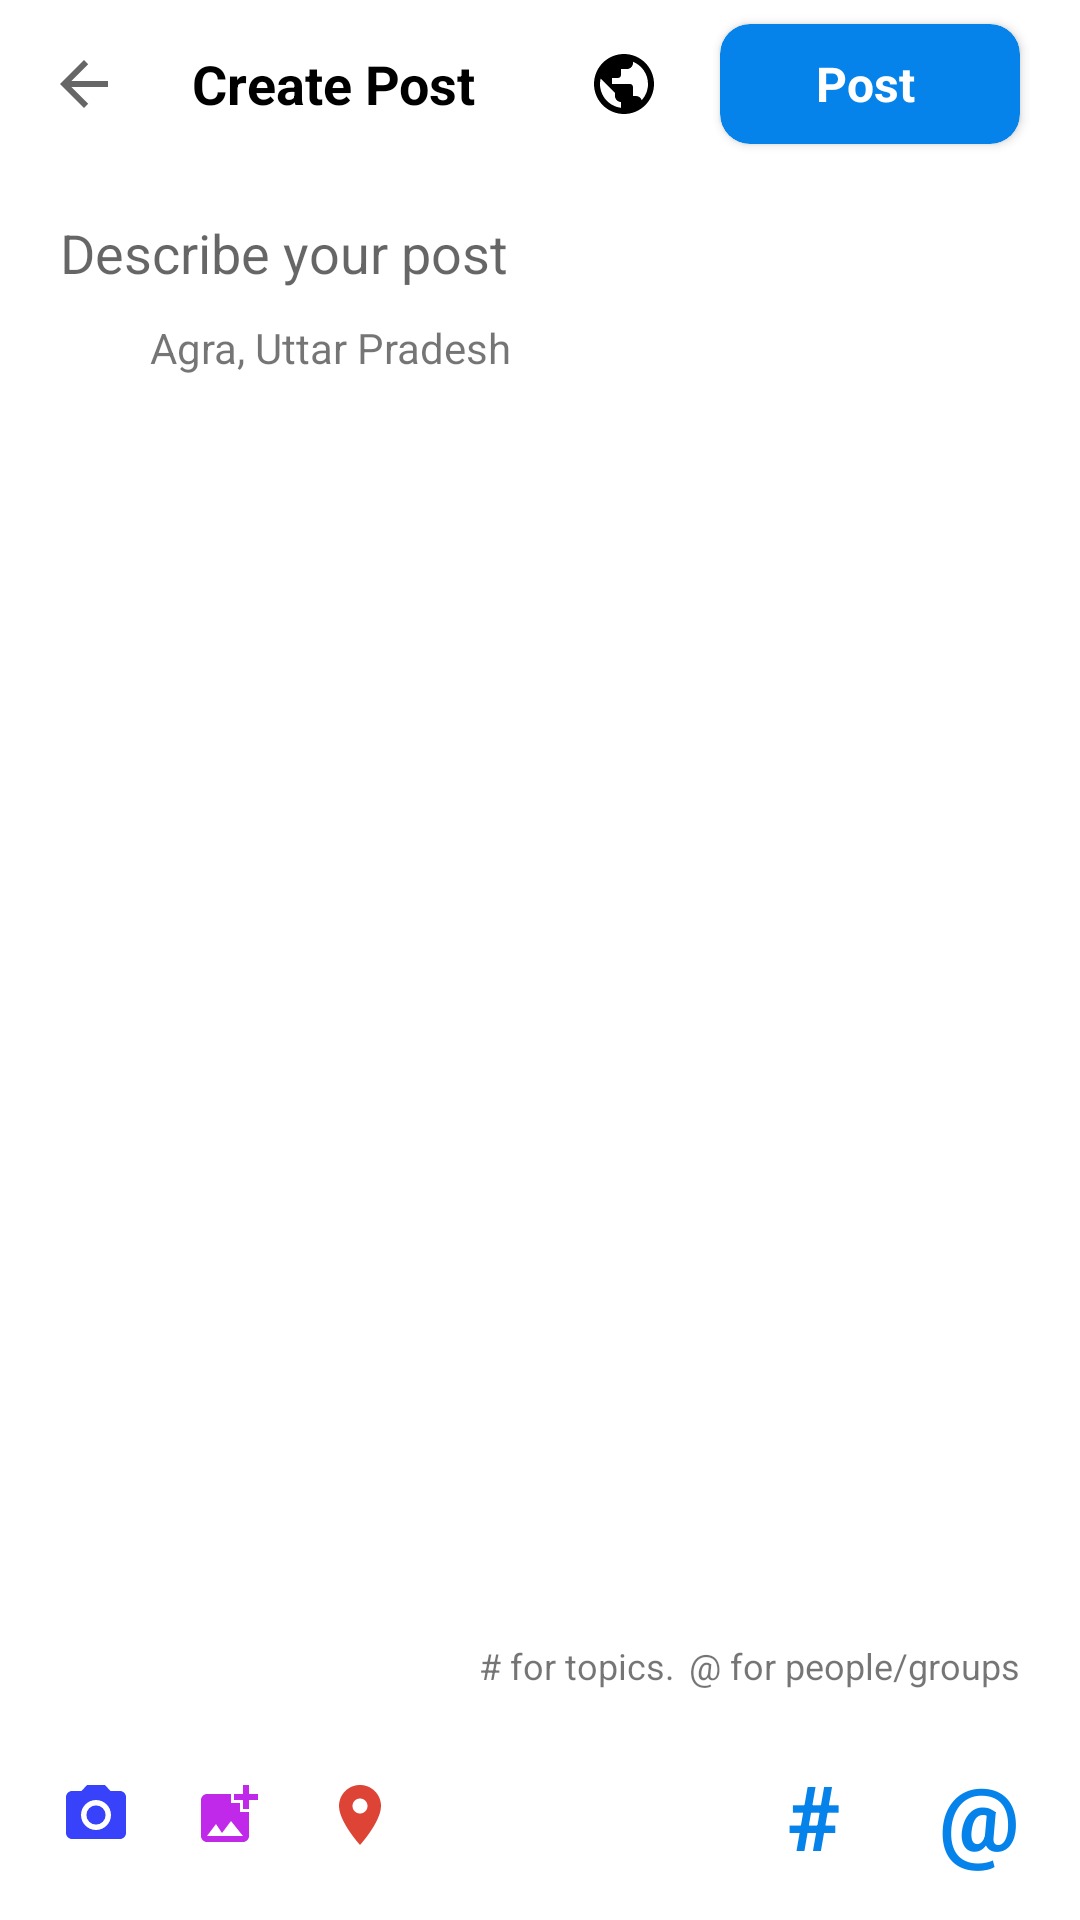

Named icons in this screenshot (1080*1920) and their bounding boxes, region(x1, y1, x2, y2):
add gallery: region(201, 1785, 258, 1842)
loctation: region(339, 1785, 381, 1845)
photo camera: region(66, 1785, 126, 1839)
